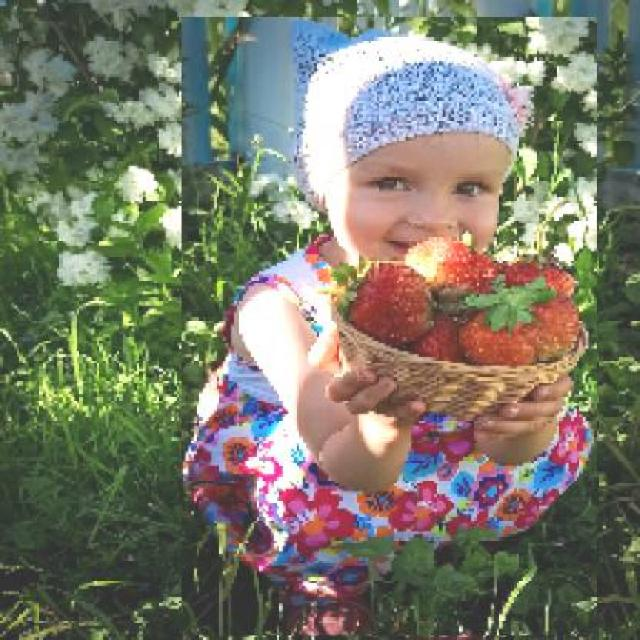child: (180, 17, 597, 637)
